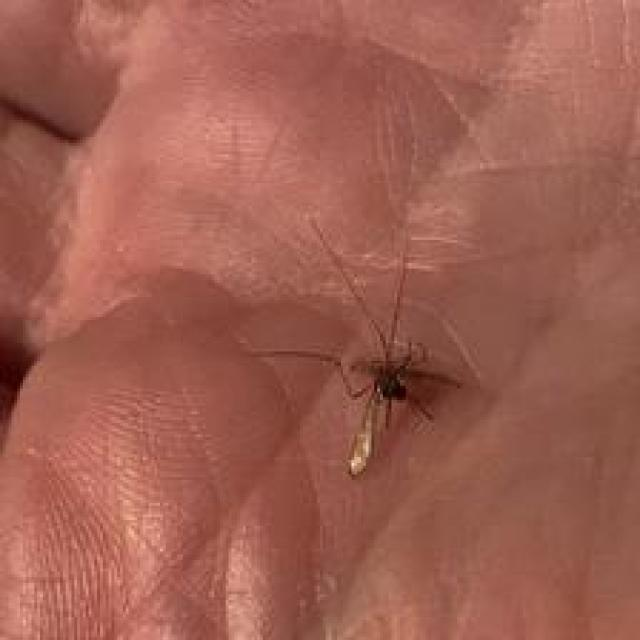Culex: (241, 209, 476, 480)
